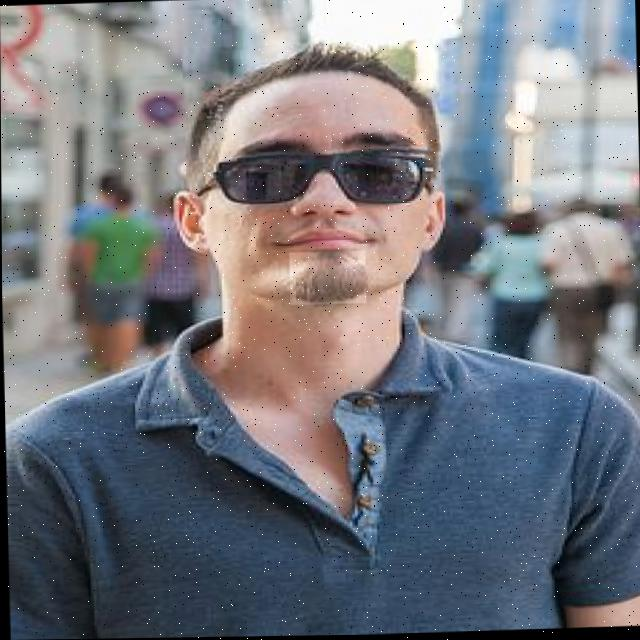beard: (289, 252, 365, 305)
hair: (190, 45, 440, 161)
